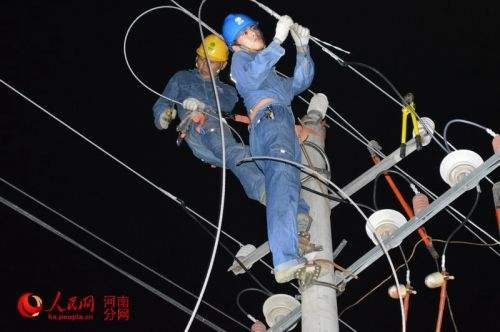blue: (221, 10, 267, 58)
yellow: (194, 31, 230, 80)
